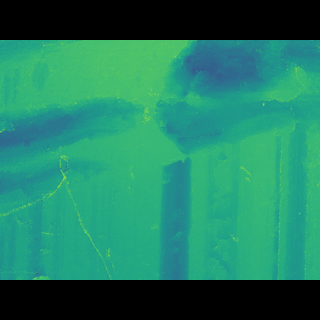Loch: (0, 70, 320, 203)
